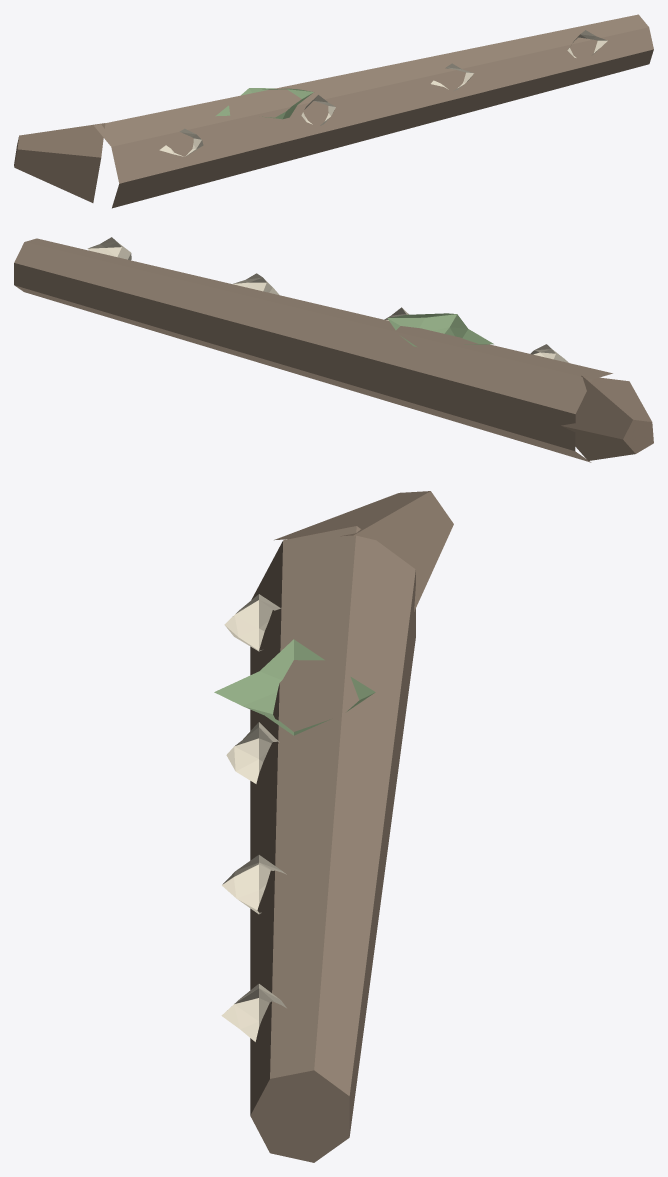
File: log_v29.glb
The picture shows the model from 3 angles, top to bottom: view 1: azimuth 30°, elevation 25°; view 2: azimuth 150°, elevation 25°; view 3: azimuth 270°, elevation 25°; orthographic projection. The views are drawn at different scales.
Visible parts, largest first — view 1: lod0; view 2: lod0; view 3: lod0.
Boxes of the visible parts, <box> form: lod0: <box>14,14,653,208</box>; lod0: <box>14,237,653,462</box>; lod0: <box>214,491,453,1162</box>.
Size of what is drawn, in the model's own units: 3.84 by 0.5227 by 0.6616.
